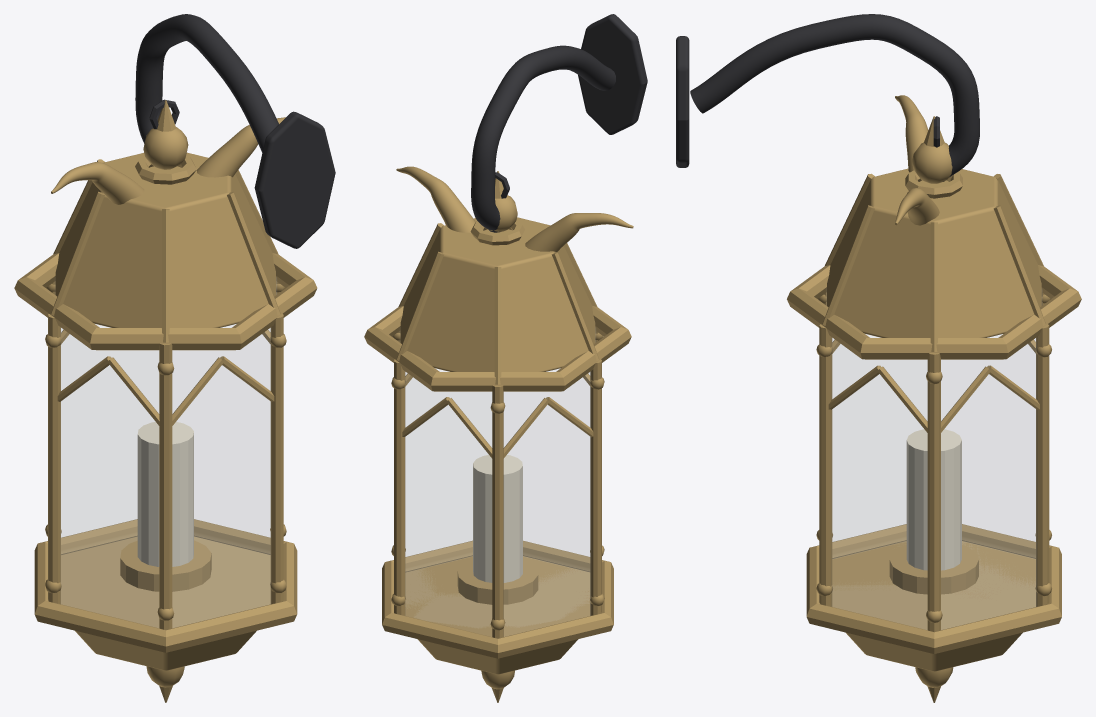
File: ODD_ODDS_WallLantern_Sconce.fbx
3 renders of one model, left to right at view 1: azimuth 30°, elevation 25°; view 2: azimuth 150°, elevation 25°; view 3: azimuth 270°, elevation 25°, orthographic. The views are drawn at different scales.
Visible parts, largest first — view 1: SM_Lantern_Body.001, SM_Lantern_Crown, SM_Lantern_BaseCap, SM_Lantern_BottomRim, SM_Lantern_Rim, SM_Lantern_WallPlate, SM_Lantern_Bracket_Arm, SM_Lantern_Candle, SM_Lantern_Mullion_05, SM_Lantern_Mullion_06, SM_Lantern_Mullion_04, SM_Lantern_CandleHolder (+12 smaller); view 2: SM_Lantern_Body.001, SM_Lantern_Crown, SM_Lantern_BaseCap, SM_Lantern_BottomRim, SM_Lantern_Rim, SM_Lantern_Bracket_Arm, SM_Lantern_WallPlate, SM_Lantern_Candle, SM_Lantern_Mullion_03, SM_Lantern_Mullion_04, SM_Lantern_Mullion_02, SM_Lantern_CandleHolder (+10 smaller); view 3: SM_Lantern_Body.001, SM_Lantern_Crown, SM_Lantern_BaseCap, SM_Lantern_Bracket_Arm, SM_Lantern_BottomRim, SM_Lantern_Rim, SM_Lantern_Candle, SM_Lantern_Mullion_01, SM_Lantern_Mullion_02, SM_Lantern_Mullion_06, SM_Lantern_CandleHolder, SM_Lantern_WallPlate (+7 smaller).
Boxes of the visible parts, x1,y1,x2,y2 form: SM_Lantern_Body.001: (60, 278, 276, 627); SM_Lantern_Crown: (55, 152, 275, 327); SM_Lantern_BaseCap: (61, 536, 270, 670); SM_Lantern_BottomRim: (34, 519, 297, 652); SM_Lantern_Rim: (14, 253, 317, 350); SM_Lantern_WallPlate: (254, 111, 335, 248); SM_Lantern_Bracket_Arm: (135, 14, 278, 152); SM_Lantern_Candle: (137, 422, 193, 566); SM_Lantern_Mullion_05: (159, 343, 172, 629); SM_Lantern_Mullion_06: (270, 313, 283, 604); SM_Lantern_Mullion_04: (48, 314, 60, 604); SM_Lantern_CandleHolder: (120, 540, 211, 591); SM_Lantern_Body.001: (405, 369, 590, 636); SM_Lantern_Crown: (400, 217, 595, 371); SM_Lantern_BaseCap: (405, 556, 590, 674); SM_Lantern_BottomRim: (382, 540, 613, 658); SM_Lantern_Rim: (364, 306, 631, 391); SM_Lantern_Bracket_Arm: (471, 45, 615, 232); SM_Lantern_WallPlate: (578, 14, 647, 134); SM_Lantern_Candle: (473, 455, 522, 582); SM_Lantern_Mullion_03: (492, 385, 503, 638); SM_Lantern_Mullion_04: (590, 359, 601, 615); SM_Lantern_Mullion_02: (394, 359, 405, 615); SM_Lantern_CandleHolder: (457, 559, 538, 604); SM_Lantern_Body.001: (826, 290, 1036, 629); SM_Lantern_Crown: (827, 168, 1041, 337); SM_Lantern_BaseCap: (832, 541, 1035, 671); SM_Lantern_Bracket_Arm: (690, 14, 979, 181); SM_Lantern_BottomRim: (806, 524, 1061, 653); SM_Lantern_Rim: (787, 265, 1081, 359); SM_Lantern_Candle: (906, 429, 961, 570); SM_Lantern_Mullion_01: (927, 353, 940, 631); SM_Lantern_Mullion_02: (1036, 324, 1049, 606); SM_Lantern_Mullion_06: (819, 324, 832, 606); SM_Lantern_CandleHolder: (889, 545, 978, 594); SM_Lantern_WallPlate: (676, 36, 689, 167).
Bounding box in the file's own units: 0.2287 × 0.5757 × 0.308.
